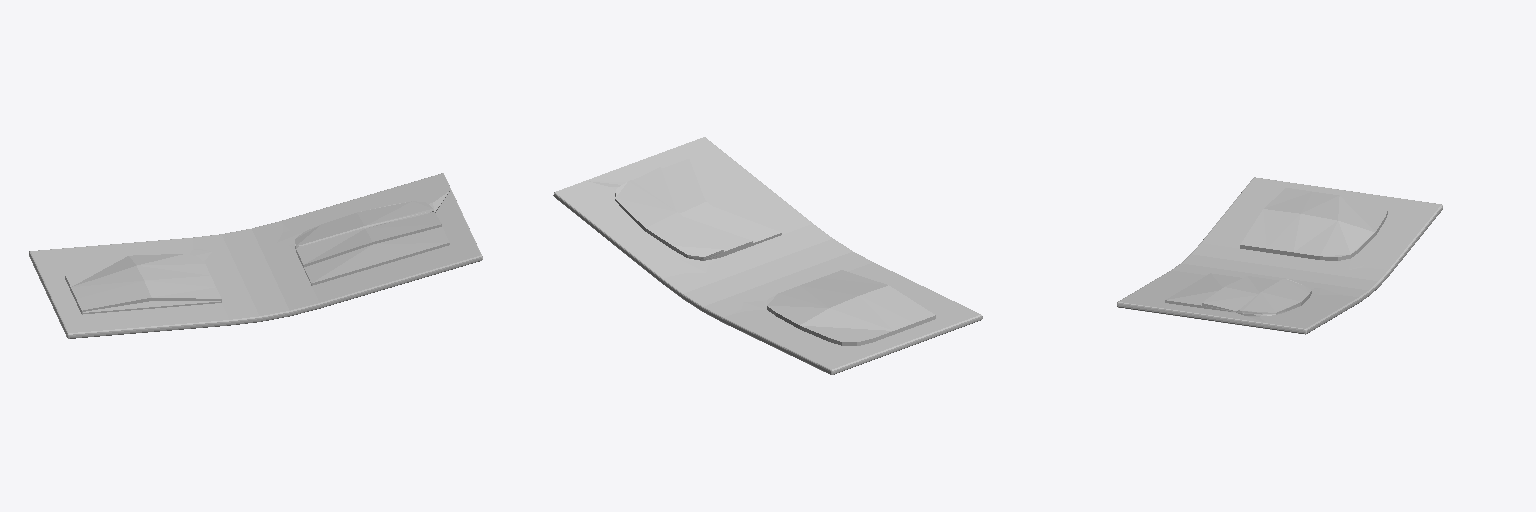
The model's file is Wallet 1.obj.
The picture shows the model from 3 angles: view 1: azimuth 30°, elevation 25°; view 2: azimuth 150°, elevation 25°; view 3: azimuth 270°, elevation 25°; orthographic projection.
Parts seen in each view (by area): view 1: Box001; view 2: Box001; view 3: Box001.
Boxes of the visible parts, x1=… form: Box001: x1=29, y1=173, x2=482, y2=338; Box001: x1=553, y1=137, x2=982, y2=374; Box001: x1=1117, y1=177, x2=1442, y2=334.
Size of the model in its own units: 584789 by 68561 by 410365.